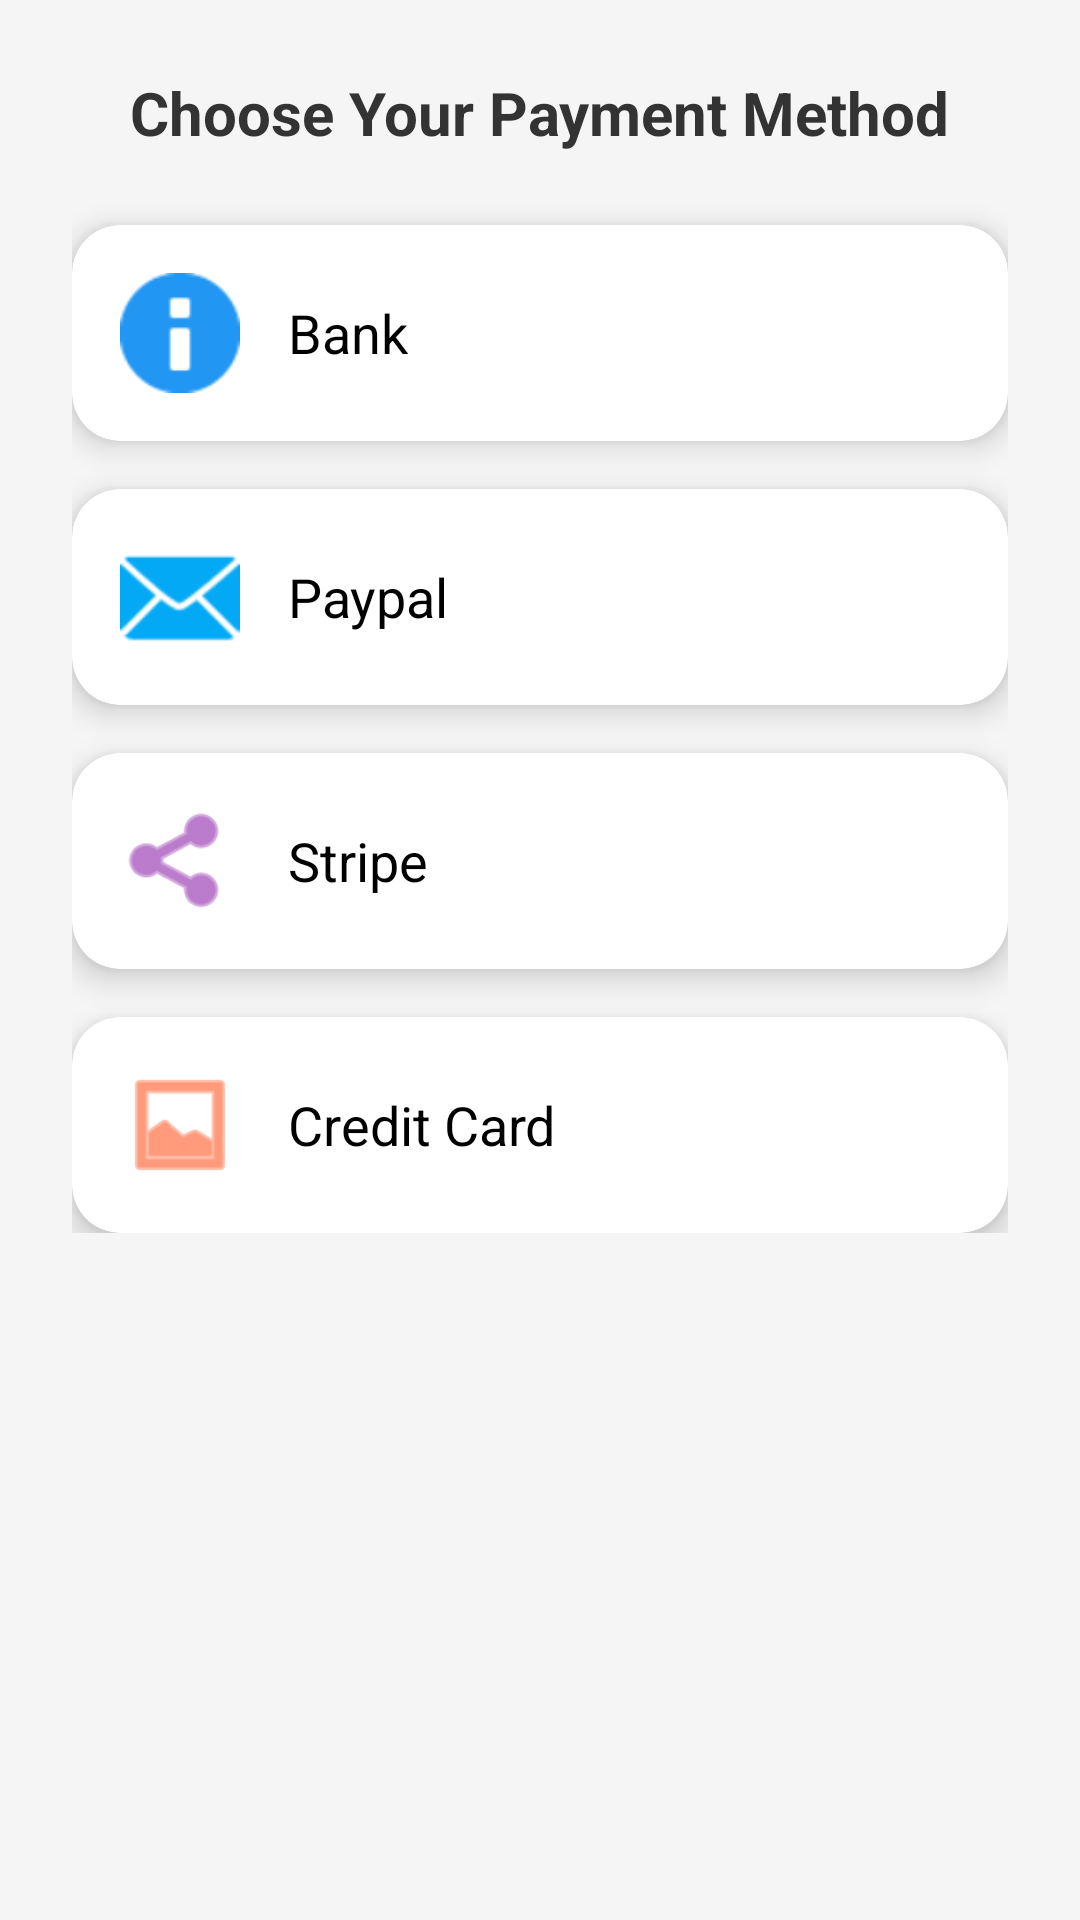

Named icons in this screenshot (1080px×1920px) and their centers, [x,y]:
email: [180,598]
gallery: [180,1125]
info: [180,333]
share: [174,860]
